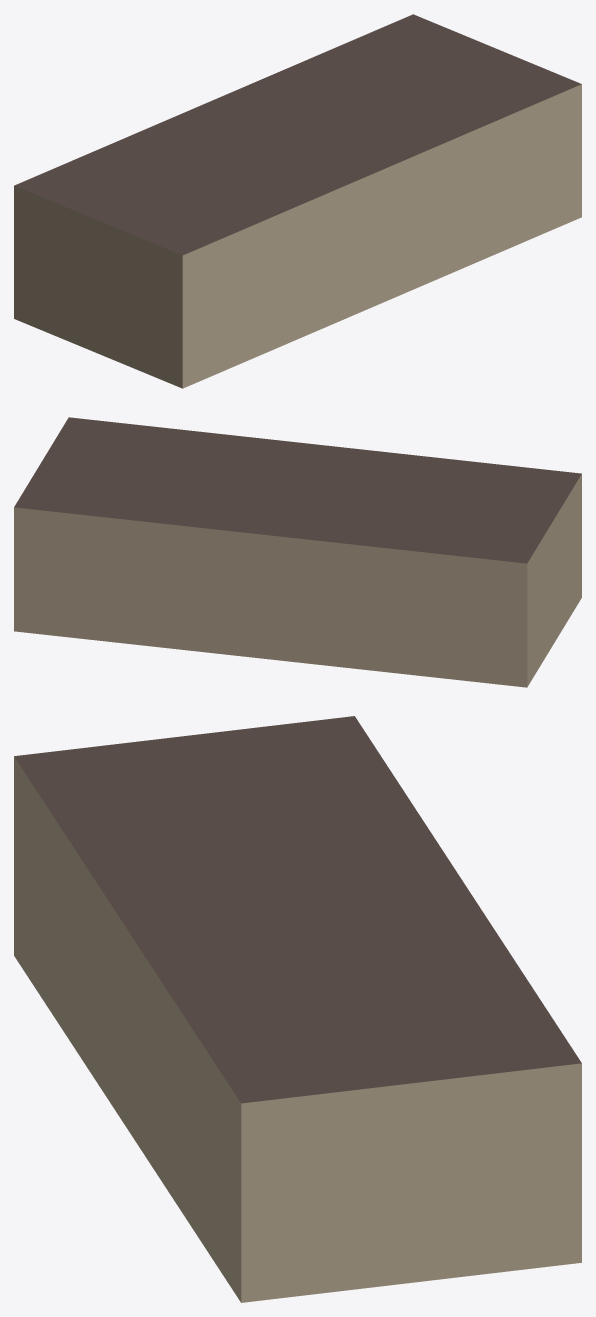
3 renders of one model, top to bottom at view 1: azimuth 30°, elevation 25°; view 2: azimuth 150°, elevation 25°; view 3: azimuth 270°, elevation 25°, orthographic. The views are drawn at different scales.
Parts seen in each view (by area): view 1: HP-w859457429; view 2: HP-w859457429; view 3: HP-w859457429.
Part boxes in pixels (left/top/right/bottom): HP-w859457429: left=14, top=14, right=581, bottom=388; HP-w859457429: left=14, top=417, right=581, bottom=687; HP-w859457429: left=14, top=716, right=581, bottom=1302.
Bounding box in the file's own units: 37.49 × 9 × 23.23.
